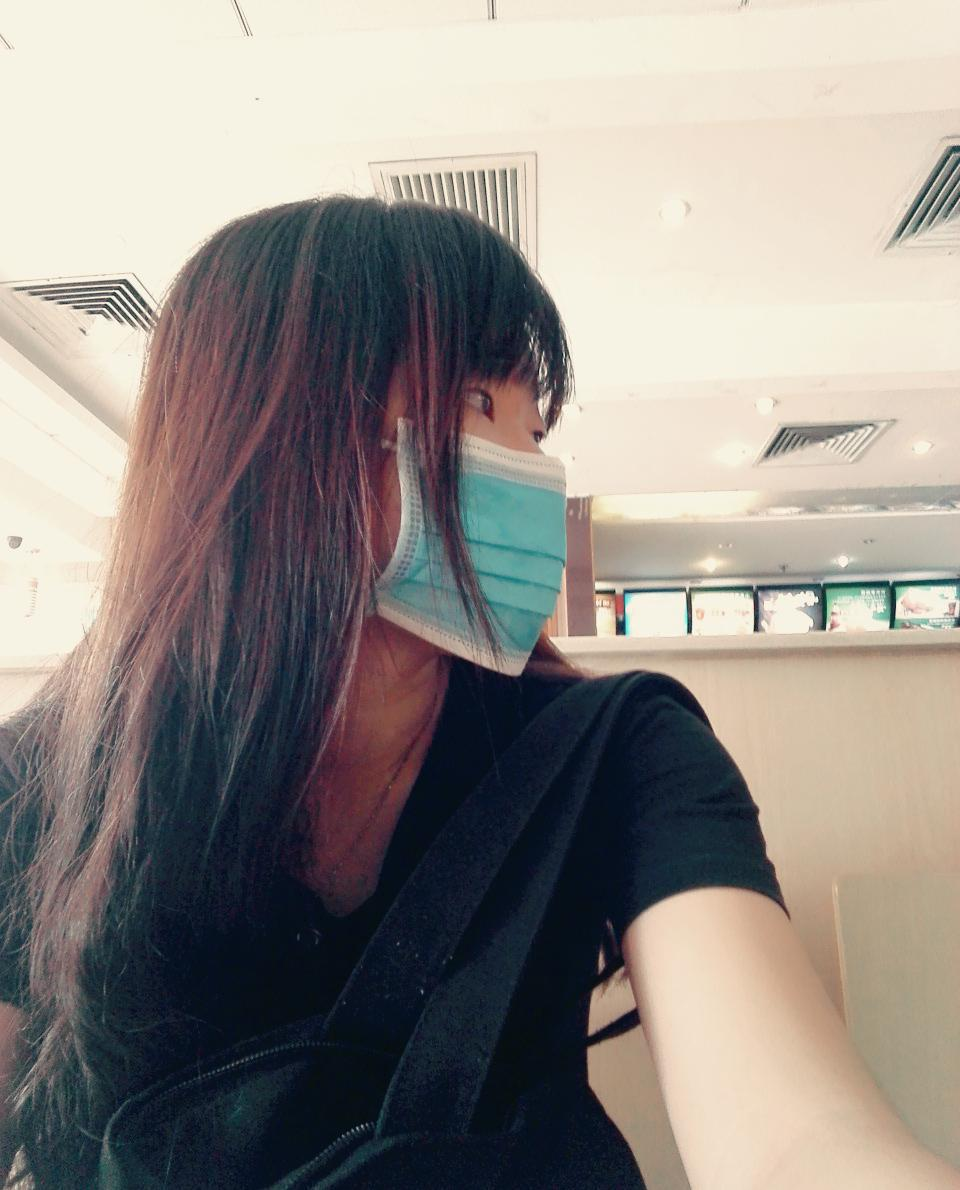OK: (288, 307, 568, 655)
